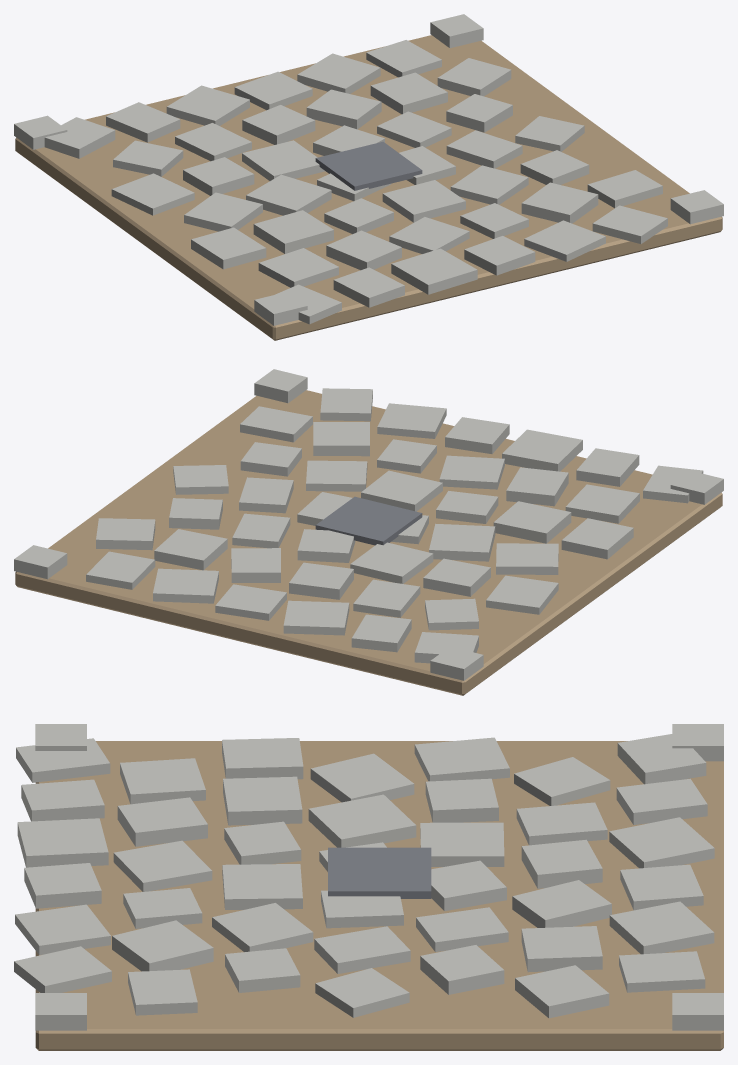
The model's file is cobble-road-junction.glb.
The picture shows the model from 3 angles, top to bottom: view 1: azimuth 30°, elevation 25°; view 2: azimuth 150°, elevation 25°; view 3: azimuth 270°, elevation 25°; orthographic projection. The views are drawn at different scales.
Parts seen in each view (by area): view 1: cobble-road-junction; view 2: cobble-road-junction; view 3: cobble-road-junction.
Part boxes in pixels (x1,y1,x2,y2): cobble-road-junction: (14,14,723,340); cobble-road-junction: (14,369,723,695); cobble-road-junction: (14,724,723,1050).
Size of the model in its own units: 4 by 0.2402 by 4.12.
